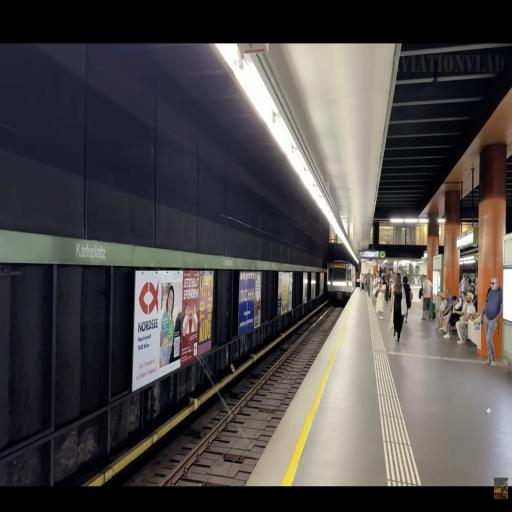Silberpfeil: (326, 256, 357, 303)
